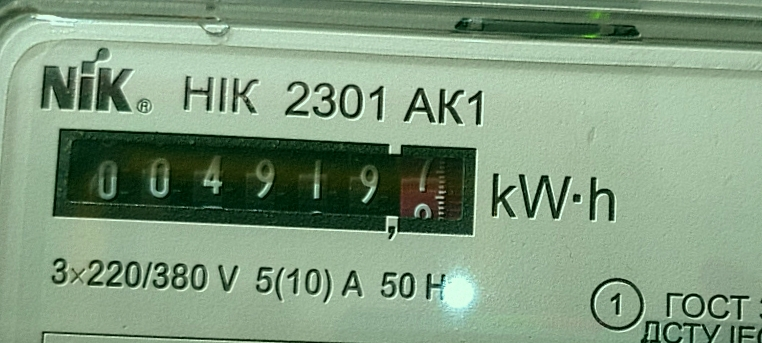0: (145, 154, 173, 200), (94, 156, 120, 201)
1: (308, 156, 325, 202)
4: (198, 151, 224, 196)
7: (409, 154, 434, 194)
9: (355, 160, 380, 208), (252, 157, 277, 201)
screen: (40, 114, 494, 254)
